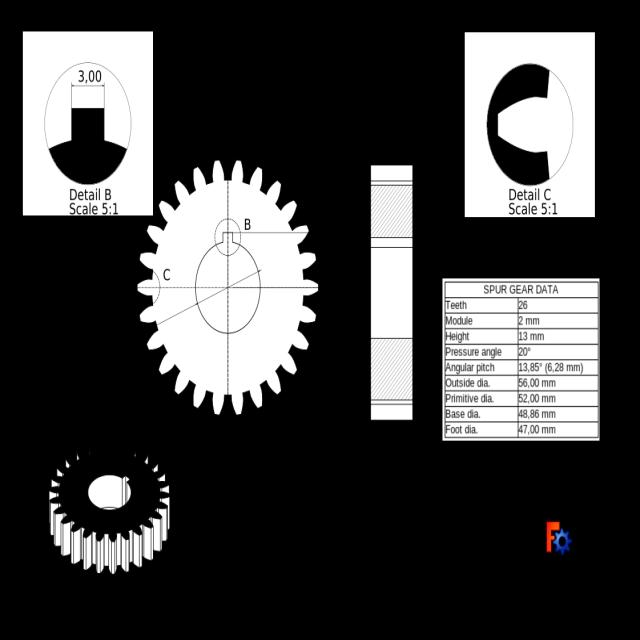Detail view: (471, 55, 579, 221), (39, 53, 140, 211)
Isometric view: (43, 418, 187, 602)
Sectional view: (366, 102, 416, 426)
Table 1: (318, 468, 614, 620)
Table 2: (444, 278, 602, 440)
Top view: (133, 99, 344, 459)
